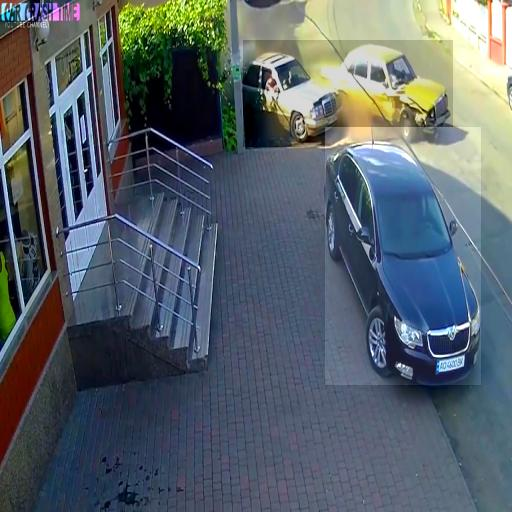小汽车: (325, 127, 481, 385)
小汽车撞小汽车: (243, 40, 453, 147)
